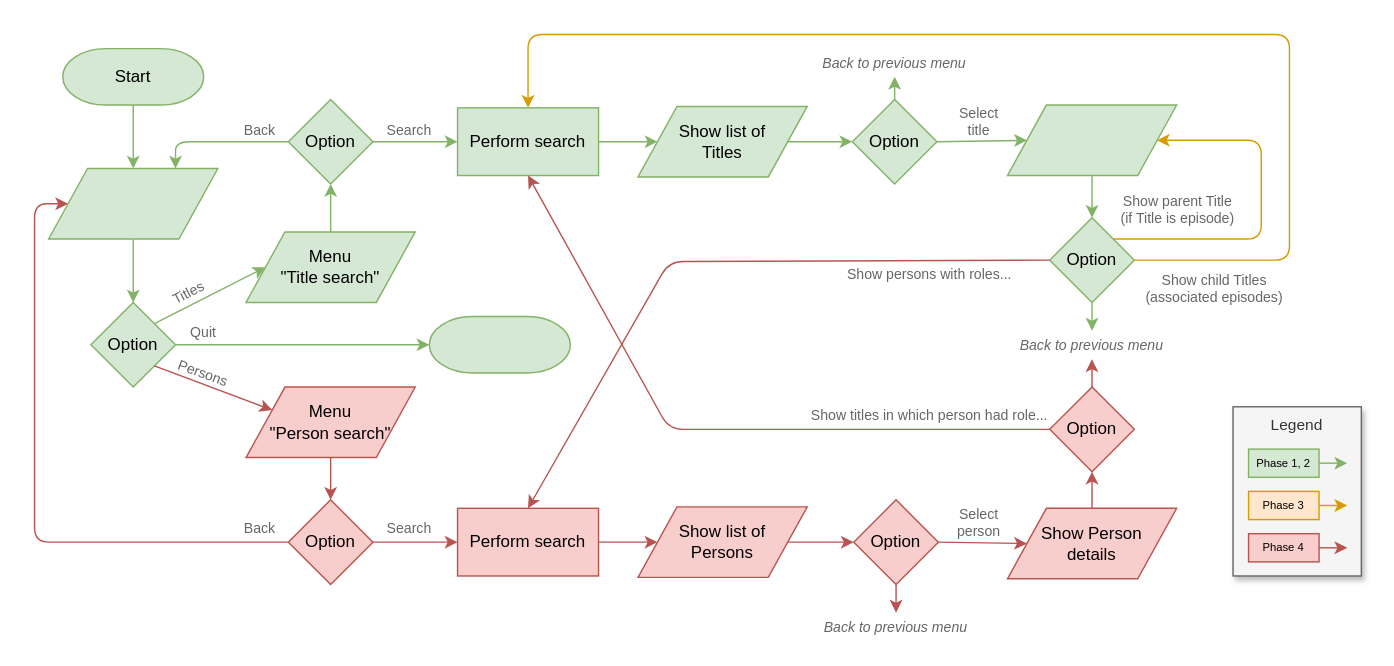
This 1394x666 diagram has some shape labels left out. Each missing label, with the centre of its shape:
End: (499,344)
Menu "Type of search": (132,203)
Show Title details: (1091,140)
